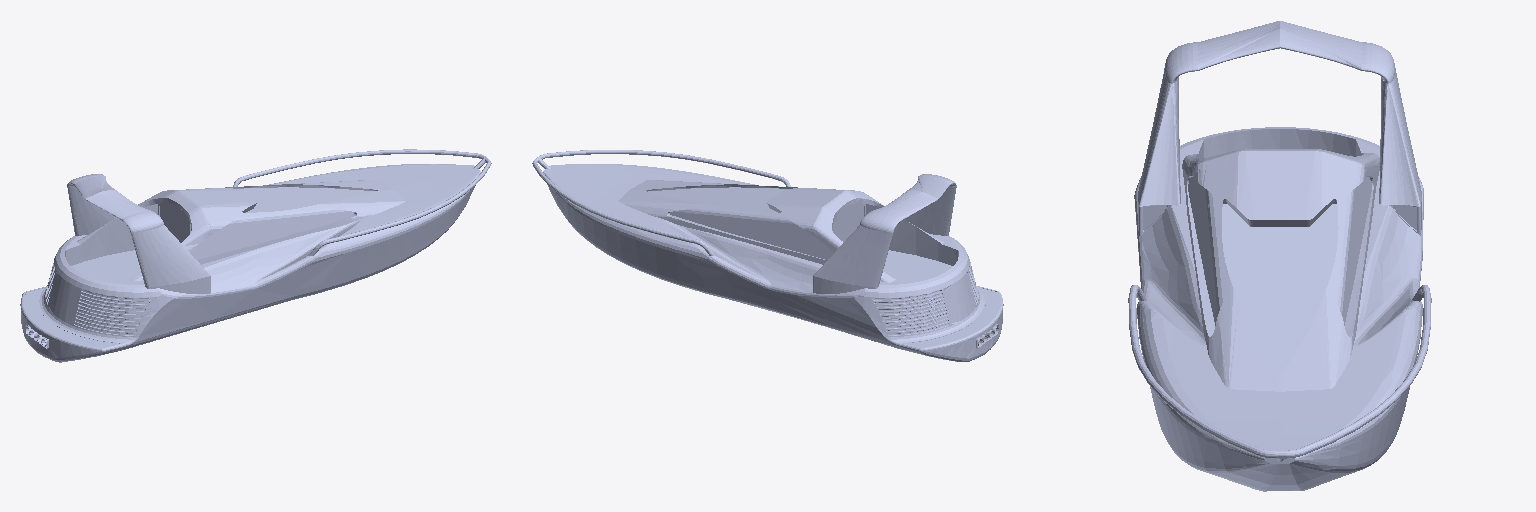
The robot description file, URDF, robot "ASV":
<?xml version="1.0" ?>
<robot
  name="ASV">
  <link
    name="ASV">
    <inertial>
      <origin
        xyz="0 0 0"
        rpy="0 0 0" />
      <mass
        value="8" />
      <inertia
        ixx="0.00552323811335545"
        ixy="1.35227839141931E-05"
        ixz="0.00134956885224282"
        iyy="0.0326489645545928"
        iyz="-4.9522344751469E-06"
        izz="0.0348123273508454" />
    </inertial>
    <visual>
      <origin
        xyz="0 0 0"
        rpy="1.5707963267949 0 0" />
      <geometry>
        <mesh
          filename="package://ASV/meshes/ASV.STL" />
      </geometry>
      <material
        name="">
        <color
          rgba="0.79216 0.81961 0.93333 1" />
      </material>
    </visual>
    <collision>
      <origin
        xyz="0 0 0"
        rpy="1.5707963267949 0 0" />
      <geometry>
        <mesh
          filename="package://ASV/meshes/ASV.STL" />
      </geometry>
    </collision>
  </link>
</robot>

--- What the picture shows (computed from the rendered views, not written in the file) ---
Views: 3 orthographic renders of the robot side by side, from view 1: azimuth 30°, elevation 25°; view 2: azimuth 150°, elevation 25°; view 3: azimuth 270°, elevation 25°.
Robot: ASV — 1 links, 0 joints (none); root link ASV; default pose: all joints at 0.
Links seen in each view (by area): view 1: ASV; view 2: ASV; view 3: ASV.
Link boxes in pixels (x1,y1,x2,y2): ASV: (20,149,491,362); ASV: (532,150,1003,361); ASV: (1128,21,1431,491).
Size in the robot's own frame: 0.4511 by 0.153 by 0.1407 metres.
Meshes: 1 distinct files referenced, 1 mesh visuals loaded (1 binary STL).
